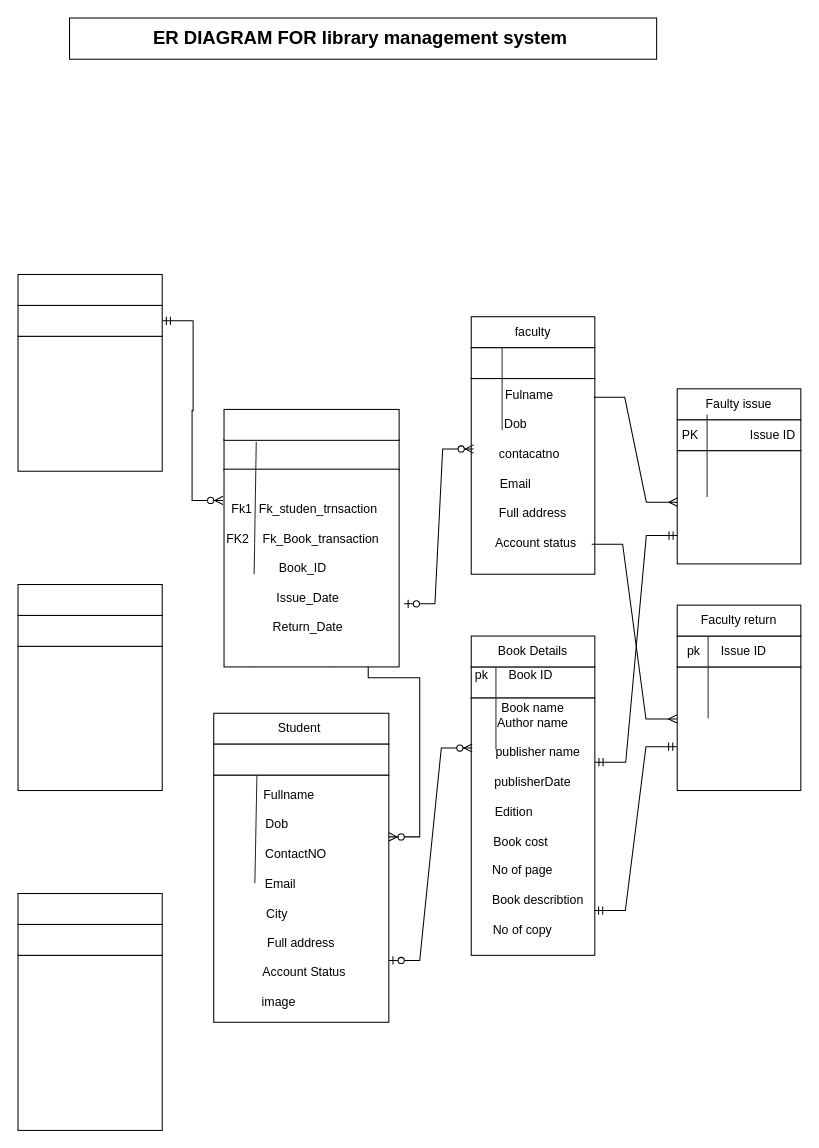
Image size: 819x1148. Some labels were removed from this diagram. Each missing label, with the centre of its shape:
"faculty ID" belongs at (532,363).
"Faculty ID Book ID Issue Date" belongs at (738,507).
"Faculty ID Book ID Issue Date return date" belongs at (738,728).
"Pk Student_ID" belongs at (301,759).
"pk transaction ID" belongs at (311,454).
"Transaction" belongs at (311,424).
